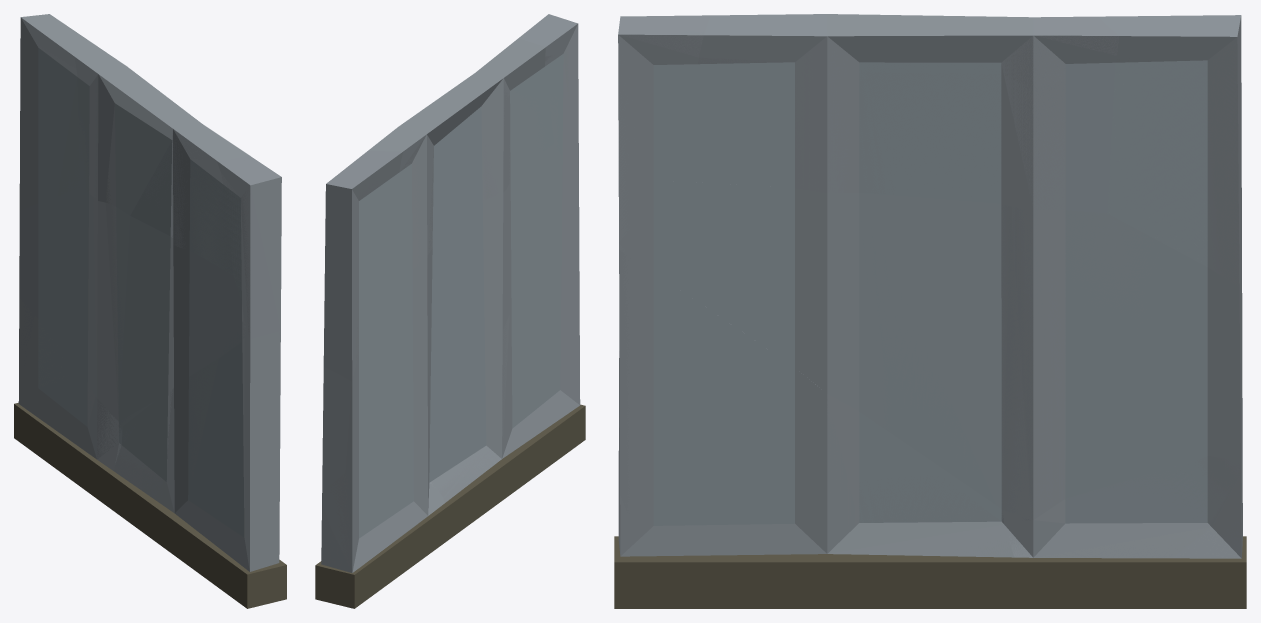
File: Barrier.fbx
The picture shows the model from 3 angles, left to right: view 1: azimuth 30°, elevation 25°; view 2: azimuth 150°, elevation 25°; view 3: azimuth 270°, elevation 25°; orthographic projection. The views are drawn at different scales.
Visible parts, largest first — view 1: Barrier, Barrier_cell.002, Barrier_cell.004, Barrier_cell, Foundation, Barrier_cell.005, Barrier_cell.001, Barrier_cell.006; view 2: Barrier, Barrier_cell.004, Barrier_cell.002, Foundation, Barrier_cell, Barrier_cell.001, Barrier_cell.005, Barrier_cell.006; view 3: Barrier, Barrier_cell.004, Barrier_cell, Barrier_cell.002, Foundation, Barrier_cell.005, Barrier_cell.001, Barrier_cell.006, Barrier_cell.003.
Part boxes in pixels (left/top/right/bottom): Barrier: left=19, top=17, right=281, bottom=571; Barrier_cell.002: left=114, top=335, right=280, bottom=571; Barrier_cell.004: left=19, top=188, right=280, bottom=426; Barrier_cell: left=74, top=56, right=248, bottom=274; Foundation: left=14, top=402, right=286, bottom=608; Barrier_cell.005: left=19, top=14, right=93, bottom=210; Barrier_cell.001: left=18, top=298, right=122, bottom=464; Barrier_cell.006: left=217, top=155, right=280, bottom=338; Barrier: left=321, top=14, right=580, bottom=572; Barrier_cell.004: left=322, top=144, right=573, bottom=492; Barrier_cell.002: left=438, top=186, right=569, bottom=503; Foundation: left=315, top=404, right=585, bottom=608; Barrier_cell: left=399, top=38, right=553, bottom=276; Barrier_cell.001: left=322, top=455, right=435, bottom=572; Barrier_cell.005: left=326, top=151, right=402, bottom=379; Barrier_cell.006: left=519, top=24, right=578, bottom=174; Barrier: left=618, top=14, right=1242, bottom=558; Barrier_cell.004: left=619, top=181, right=1241, bottom=519; Barrier_cell: left=671, top=14, right=1118, bottom=212; Barrier_cell.002: left=618, top=250, right=1013, bottom=557; Foundation: left=614, top=536, right=1246, bottom=608; Barrier_cell.005: left=1098, top=15, right=1241, bottom=286; Barrier_cell.001: left=1009, top=405, right=1242, bottom=558; Barrier_cell.006: left=618, top=32, right=703, bottom=241; Barrier_cell.003: left=1176, top=475, right=1241, bottom=558.
Size of the model in its own units: 39.95 by 407 by 408.
